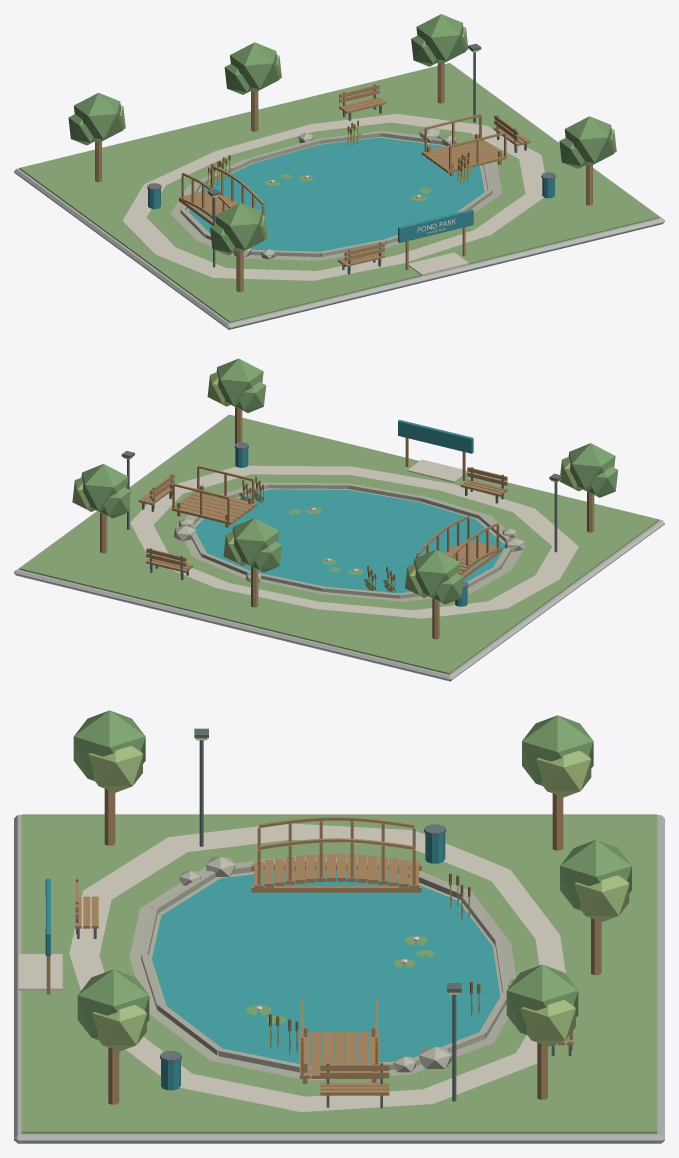
Rendered from Pond_Park.fbx.
The picture shows the model from 3 angles, top to bottom: view 1: azimuth 30°, elevation 25°; view 2: azimuth 150°, elevation 25°; view 3: azimuth 270°, elevation 25°; orthographic projection. The views are drawn at different scales.
Parts seen in each view (by area): view 1: Pond Park Lawn, Pond Water Surface, Pond Loop Walking Path, Pond Park Plot, Irregular Pond Stone Bank, Faceted Tree Canopy.033, Faceted Tree Canopy.024, Faceted Tree Canopy.030, Faceted Tree Canopy.027, Faceted Tree Canopy.021, Pond Information Board, Park Entrance Path (+5 smaller); view 2: Pond Park Lawn, Pond Water Surface, Pond Loop Walking Path, Pond Park Plot, Irregular Pond Stone Bank, Faceted Tree Canopy.021, Faceted Tree Canopy.030, Faceted Tree Canopy.033, Faceted Tree Canopy.027, Faceted Tree Canopy.024, Pond Information Board, Park Entrance Path (+6 smaller); view 3: Pond Park Lawn, Pond Water Surface, Pond Loop Walking Path, Pond Park Plot, Irregular Pond Stone Bank, Faceted Tree Canopy.027, Faceted Tree Canopy.030, Faceted Tree Canopy.024, Faceted Tree Canopy.021, Faceted Tree Canopy.033, Faceted Tree Canopy.023, Faceted Tree Canopy.035 (+11 smaller).
Part boxes in pixels (<box>): Pond Park Lawn: <box>19,63,659,322</box>; Pond Water Surface: <box>189,137,484,251</box>; Pond Loop Walking Path: <box>122,114,544,280</box>; Pond Park Plot: <box>14,63,664,329</box>; Irregular Pond Stone Bank: <box>171,131,502,260</box>; Faceted Tree Canopy.033: <box>230,42,279,92</box>; Faceted Tree Canopy.024: <box>416,14,465,63</box>; Faceted Tree Canopy.030: <box>215,203,264,252</box>; Faceted Tree Canopy.027: <box>564,116,614,165</box>; Faceted Tree Canopy.021: <box>74,92,123,142</box>; Pond Information Board: <box>398,209,473,242</box>; Park Entrance Path: <box>408,252,468,275</box>; Pond Park Lawn: <box>19,414,659,674</box>; Pond Water Surface: <box>194,489,504,593</box>; Pond Loop Walking Path: <box>130,465,578,618</box>; Pond Park Plot: <box>14,414,664,681</box>; Irregular Pond Stone Bank: <box>177,482,525,601</box>; Faceted Tree Canopy.021: <box>414,550,460,599</box>; Faceted Tree Canopy.030: <box>568,443,615,492</box>; Faceted Tree Canopy.033: <box>232,518,279,567</box>; Faceted Tree Canopy.027: <box>216,358,263,408</box>; Faceted Tree Canopy.024: <box>81,464,128,513</box>; Pond Information Board: <box>398,419,473,453</box>; Park Entrance Path: <box>407,459,468,482</box>; Pond Park Lawn: <box>21,814,657,1133</box>; Pond Water Surface: <box>152,871,500,1066</box>; Pond Loop Walking Path: <box>69,823,565,1111</box>; Pond Park Plot: <box>14,815,664,1143</box>; Irregular Pond Stone Bank: <box>129,856,516,1080</box>; Faceted Tree Canopy.027: <box>77,969,149,1039</box>; Faceted Tree Canopy.030: <box>73,710,145,780</box>; Faceted Tree Canopy.024: <box>506,964,578,1034</box>; Faceted Tree Canopy.021: <box>522,715,593,785</box>; Faceted Tree Canopy.033: <box>560,840,631,910</box>; Faceted Tree Canopy.023: <box>536,750,591,797</box>; Faceted Tree Canopy.035: <box>574,875,629,921</box>.
Bounding box in the file's own units: 2000 × 414 × 1700.
